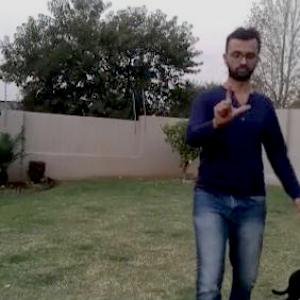land_hand: (206, 76, 254, 128)
